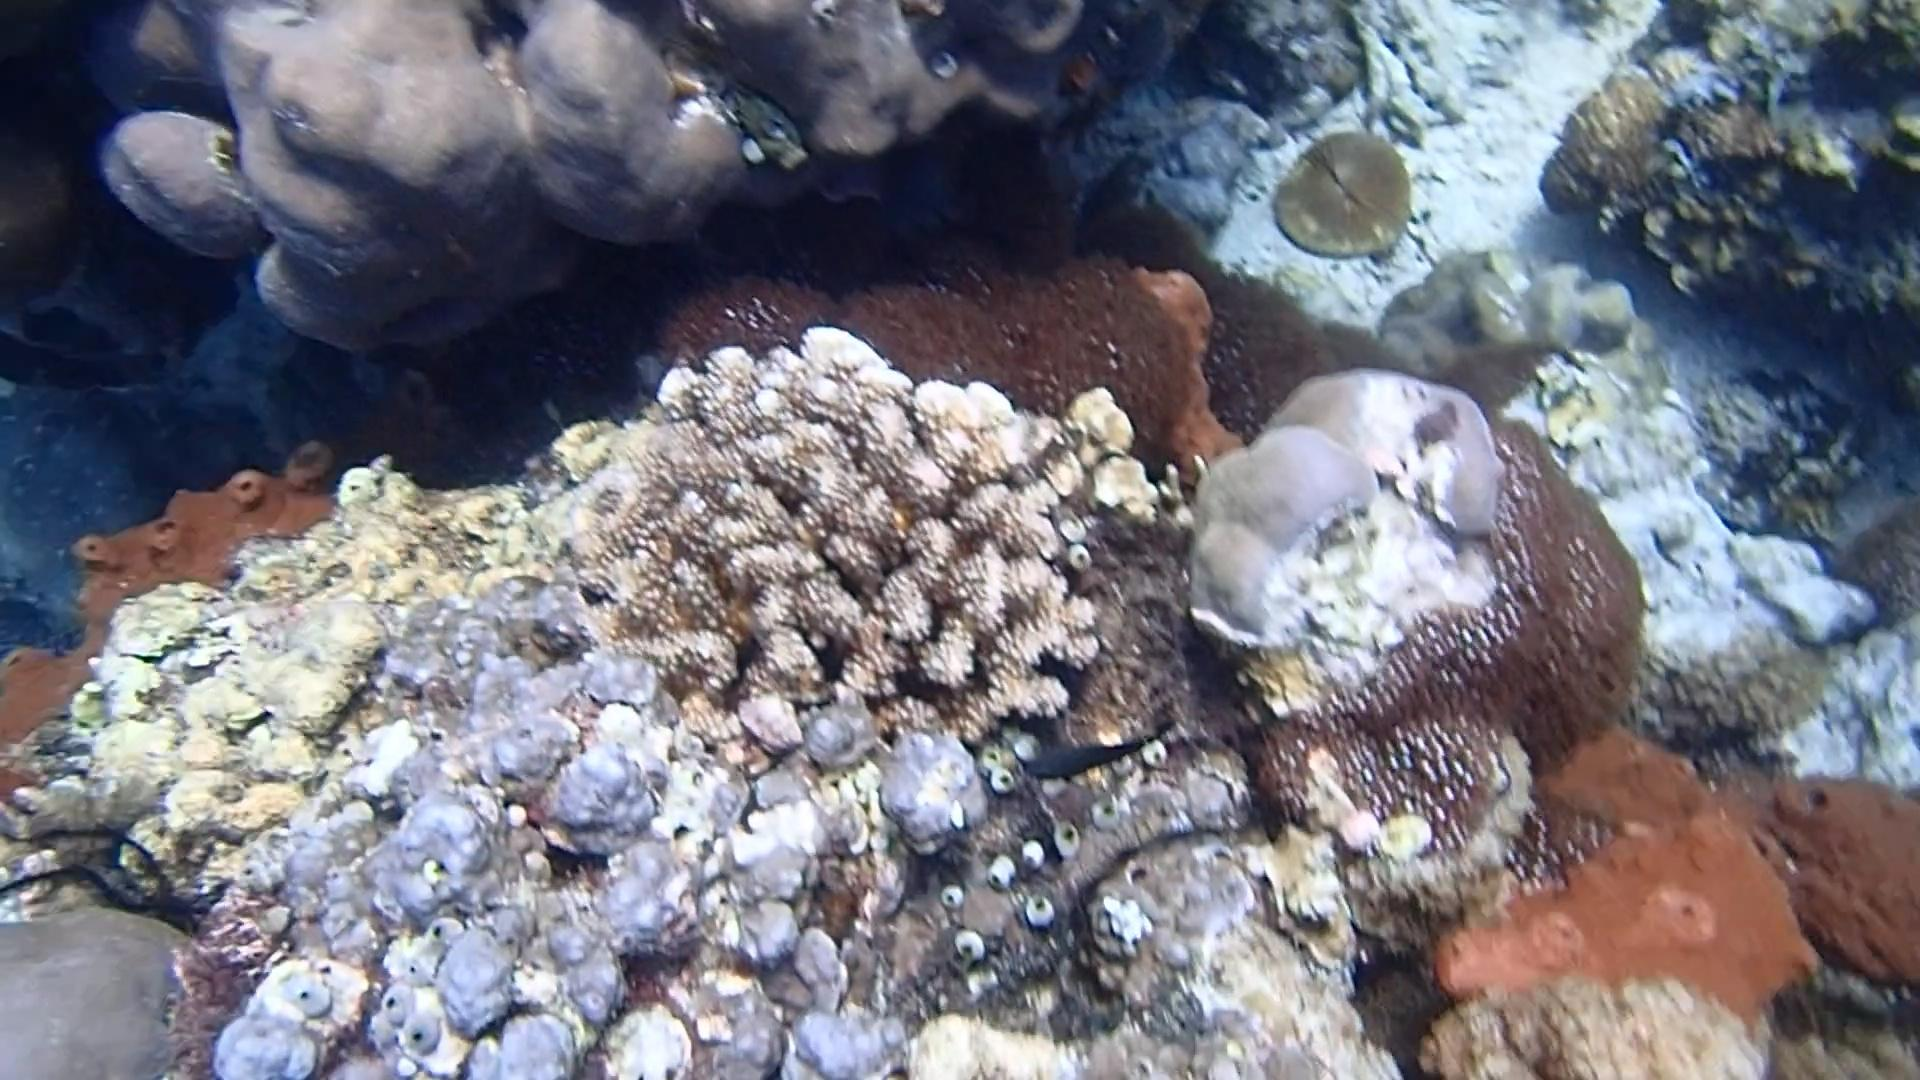Dark Fish: (1007, 704, 1183, 794)
